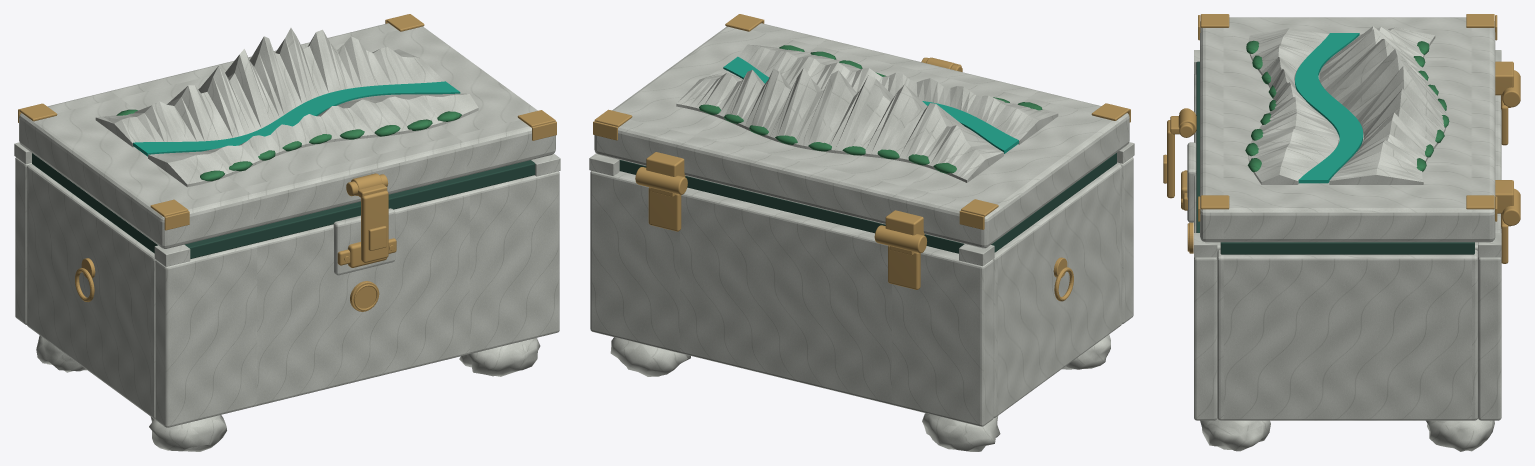
The model's file is slovenia.glb.
3 views of the same model, side by side, from view 1: azimuth 30°, elevation 25°; view 2: azimuth 150°, elevation 25°; view 3: azimuth 270°, elevation 25° (orthographic).
Visible parts, largest first — view 1: Limestone / front, Lid / polished slab, Limestone / side, Landscape / limestone gorge bank 1, Landscape / limestone gorge bank -1, Mineral seam / long, Landscape / Soca continuous inlay, Granite foot, Granite foot.002, Limestone / rear, Latch / lifting hasp, Cedar / clasp seat (+4 smaller); view 2: Limestone / rear, Lid / polished slab, Limestone / side, Landscape / limestone gorge bank 1, Landscape / limestone gorge bank -1, Mineral seam / long.001, Granite foot.001, Limestone / front, Granite foot.003, Landscape / Soca continuous inlay, Mineral seam / side, Hinge / fixed mount.001 (+8 smaller); view 3: Limestone / side.001, Lid / polished slab, Landscape / limestone gorge bank 1, Landscape / limestone gorge bank -1, Limestone / rear, Limestone / front, Landscape / Soca continuous inlay, Mineral seam / side.001, Granite foot.002, Granite foot.003, Cedar / clasp seat, Mineral seam / long (+11 smaller).
Boxes of the visible parts, <box> form: Limestone / front: <box>155,171,559,427</box>; Lid / polished slab: <box>19,23,555,248</box>; Limestone / side: <box>26,164,155,419</box>; Landscape / limestone gorge bank 1: <box>95,28,444,147</box>; Landscape / limestone gorge bank -1: <box>148,93,478,187</box>; Mineral seam / long: <box>184,160,535,258</box>; Landscape / Soca continuous inlay: <box>133,81,460,156</box>; Granite foot: <box>149,415,226,451</box>; Granite foot.002: <box>459,338,540,376</box>; Limestone / rear: <box>15,157,31,324</box>; Latch / lifting hasp: <box>361,190,388,262</box>; Cedar / clasp seat: <box>333,208,395,275</box>; Limestone / rear: <box>590,170,993,426</box>; Lid / polished slab: <box>594,23,1129,248</box>; Limestone / side: <box>993,163,1121,418</box>; Landscape / limestone gorge bank 1: <box>676,68,1003,182</box>; Landscape / limestone gorge bank -1: <box>739,44,1058,144</box>; Mineral seam / long.001: <box>619,160,964,253</box>; Granite foot.001: <box>922,413,1000,451</box>; Limestone / front: <box>1117,157,1133,324</box>; Granite foot.003: <box>610,337,690,376</box>; Landscape / Soca continuous inlay: <box>723,56,1018,153</box>; Mineral seam / side: <box>991,153,1116,252</box>; Hinge / fixed mount.001: <box>648,187,681,231</box>; Limestone / side.001: <box>1217,249,1477,420</box>; Lid / polished slab: <box>1200,17,1495,242</box>; Landscape / limestone gorge bank 1: <box>1319,26,1446,184</box>; Landscape / limestone gorge bank -1: <box>1248,28,1338,184</box>; Limestone / rear: <box>1478,95,1501,420</box>; Limestone / front: <box>1194,74,1217,420</box>; Landscape / Soca continuous inlay: <box>1295,33,1363,183</box>; Mineral seam / side.001: <box>1220,242,1474,254</box>; Granite foot.002: <box>1200,418,1270,451</box>; Granite foot.003: <box>1426,419,1494,451</box>; Cedar / clasp seat: <box>1187,142,1196,222</box>; Mineral seam / long: <box>1196,61,1199,232</box>.
Bounding box in the file's own units: 3.79 × 2.86 × 2.88.
5 materials, 2 textured.
